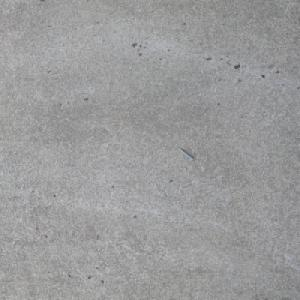Screw: (177, 147, 196, 160)
